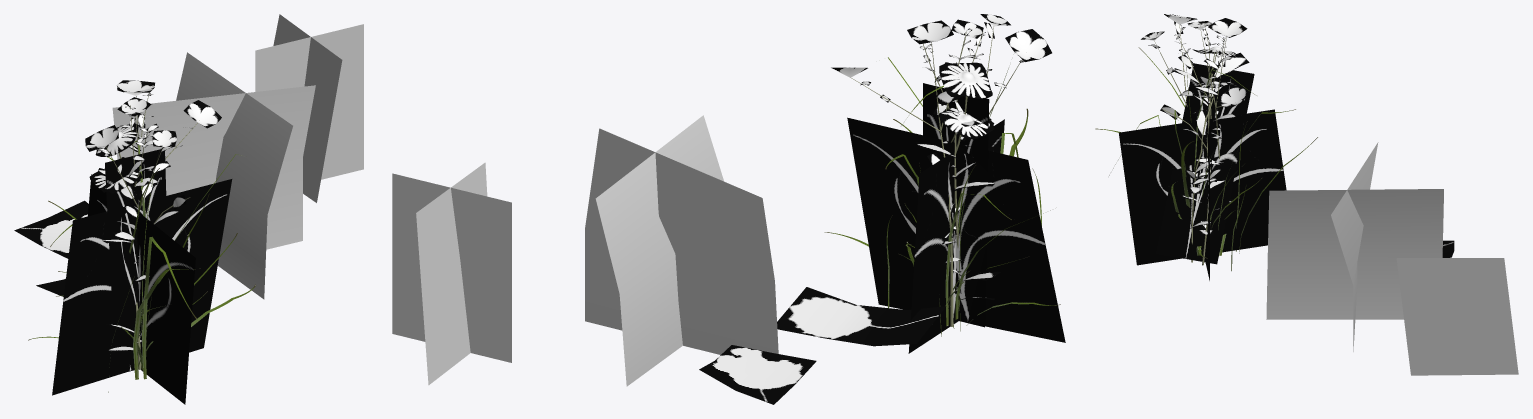
Rendered from realisticflower pack.fbx.
3 renders of one model, left to right at view 1: azimuth 30°, elevation 25°; view 2: azimuth 150°, elevation 25°; view 3: azimuth 270°, elevation 25°, orthographic. The views are drawn at different scales.
Visible parts, largest first — view 1: model_4, model_5, model_1, model_17, model_11.001, model_15, model_13, model_6.001, model_6, model_10, model_10.001, model_6.002; view 2: model_5, model_4, model_1, model_16, model_11.001, model_15, model_17, model_13, model_10, model_6.001, model_10.001, model_6; view 3: model_5, model_4, model_1, model_17, model_11.001, model_13, model_10, model_10.001, model_6, model_6.001, model_6.002.
Boxes of the visible parts, bbox=[...] form: model_4: bbox=[52, 174, 232, 404]; model_5: bbox=[112, 52, 315, 299]; model_1: bbox=[255, 14, 363, 202]; model_17: bbox=[105, 149, 167, 371]; model_11.001: bbox=[85, 80, 221, 263]; model_15: bbox=[14, 200, 88, 258]; model_13: bbox=[96, 93, 159, 369]; model_6.001: bbox=[28, 140, 246, 379]; model_6: bbox=[48, 168, 255, 392]; model_10: bbox=[95, 122, 190, 323]; model_10.001: bbox=[89, 157, 152, 281]; model_6.002: bbox=[58, 151, 209, 346]; model_5: bbox=[585, 115, 778, 386]; model_4: bbox=[847, 117, 1065, 353]; model_1: bbox=[392, 162, 511, 385]; model_16: bbox=[777, 287, 945, 346]; model_11.001: bbox=[831, 14, 1051, 326]; model_15: bbox=[699, 345, 816, 404]; model_17: bbox=[923, 83, 989, 327]; model_13: bbox=[915, 28, 1000, 300]; model_10: bbox=[939, 62, 992, 272]; model_6.001: bbox=[885, 57, 1060, 326]; model_10.001: bbox=[938, 107, 994, 142]; model_6: bbox=[824, 68, 1041, 336]; model_5: bbox=[1266, 142, 1443, 351]; model_4: bbox=[1119, 109, 1286, 280]; model_1: bbox=[1396, 258, 1518, 375]; model_17: bbox=[1156, 63, 1254, 265]; model_11.001: bbox=[1141, 14, 1248, 165]; model_13: bbox=[1174, 23, 1249, 234]; model_10: bbox=[1160, 46, 1238, 265]; model_10.001: bbox=[1185, 81, 1235, 262]; model_6: bbox=[1095, 47, 1317, 258]; model_6.001: bbox=[1109, 69, 1295, 271]; model_6.002: bbox=[1181, 66, 1261, 229].
Size of the model in its own units: 151 by 85.75 by 137.
